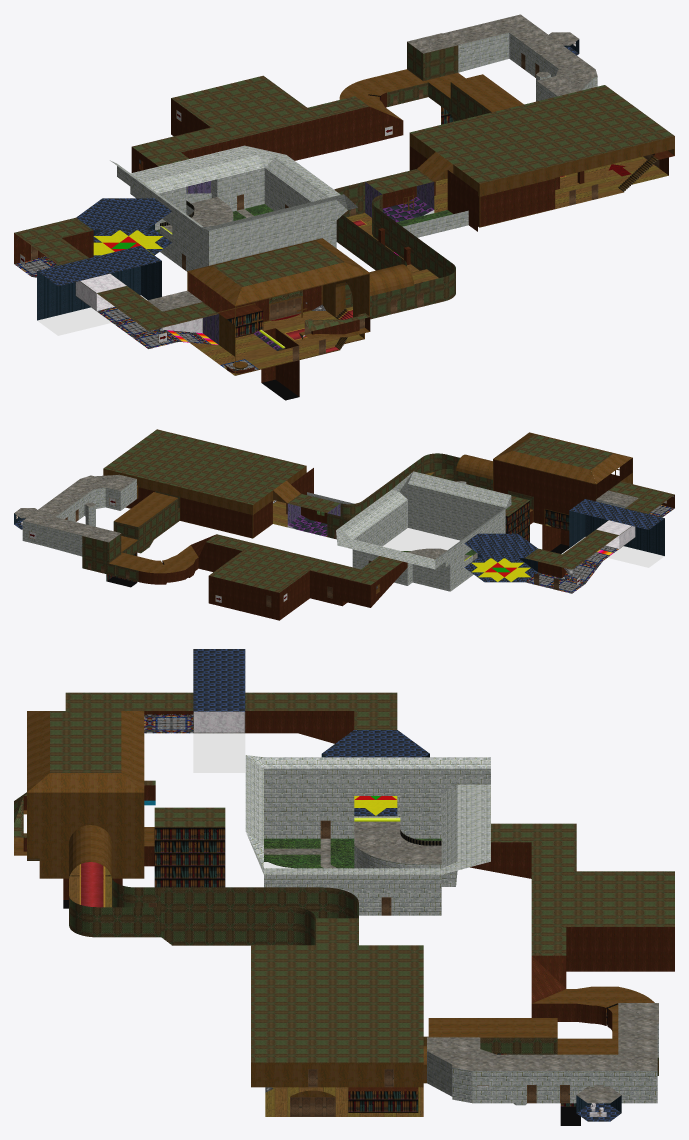
3 views of the same model, one above another, from view 1: azimuth 30°, elevation 25°; view 2: azimuth 150°, elevation 25°; view 3: azimuth 270°, elevation 25° (orthographic). The views are drawn at different scales.
Parts seen in each view (by area): view 1: fcourse-SKP--wall_for_rooms, fcourse-SKP--stone_wall, fcourse-SKP--wooden_wall, fcourse-SKP--wood, fcourse-SKP--wooden_floor, fcourse-SKP--dirt_road, fcourse-SKP--secret_room_floor, fcourse-SKP--blue_wall, fcourse-SKP--glass-road, fcourse-SKP--Trlizia, fcourse-SKP--ghost-cube, fcourse-SKP--transparentwall (+6 smaller); view 2: fcourse-SKP--wall_for_rooms, fcourse-SKP--wooden_wall, fcourse-SKP--stone_wall, fcourse-SKP--wood, fcourse-SKP--dirt_road, fcourse-SKP--secret_room_floor, fcourse-SKP--blue_wall, fcourse-SKP--ef_sea, fcourse-SKP--glass-road, fcourse-SKP--books, fcourse-SKP--star-yellow, fcourse-SKP--ghost-cube (+4 smaller); view 3: fcourse-SKP--wall_for_rooms, fcourse-SKP--stone_wall, fcourse-SKP--wood, fcourse-SKP--wooden_wall, fcourse-SKP--dirt_road, fcourse-SKP--secret_room_floor, fcourse-SKP--books, fcourse-SKP--wooden_floor, fcourse-SKP--ef_sea, fcourse-SKP--grass, fcourse-SKP--Trlizia, fcourse-SKP--ghost-cube (+2 smaller).
Part boxes in pixels (left/top/right/bottom): fcourse-SKP--wall_for_rooms: left=14, top=42, right=674, bottom=331; fcourse-SKP--stone_wall: left=110, top=32, right=597, bottom=271; fcourse-SKP--wooden_wall: left=14, top=92, right=674, bottom=396; fcourse-SKP--wood: left=20, top=43, right=674, bottom=375; fcourse-SKP--wooden_floor: left=190, top=156, right=668, bottom=375; fcourse-SKP--dirt_road: left=75, top=14, right=597, bottom=311; fcourse-SKP--secret_room_floor: left=37, top=47, right=578, bottom=286; fcourse-SKP--blue_wall: left=37, top=39, right=579, bottom=320; fcourse-SKP--glass-road: left=14, top=256, right=258, bottom=369; fcourse-SKP--Trlizia: left=31, top=53, right=659, bottom=361; fcourse-SKP--ghost-cube: left=76, top=273, right=202, bottom=333; fcourse-SKP--transparentwall: left=186, top=180, right=434, bottom=344; fcourse-SKP--wall_for_rooms: left=82, top=429, right=674, bottom=592; fcourse-SKP--wooden_wall: left=126, top=458, right=674, bottom=620; fcourse-SKP--stone_wall: left=22, top=471, right=626, bottom=591; fcourse-SKP--wood: left=16, top=432, right=666, bottom=602; fcourse-SKP--dirt_road: left=14, top=474, right=638, bottom=560; fcourse-SKP--secret_room_floor: left=14, top=499, right=664, bottom=582; fcourse-SKP--blue_wall: left=14, top=510, right=664, bottom=571; fcourse-SKP--ef_sea: left=382, top=528, right=664, bottom=567; fcourse-SKP--glass-road: left=525, top=505, right=674, bottom=593; fcourse-SKP--books: left=106, top=501, right=569, bottom=582; fcourse-SKP--star-yellow: left=471, top=558, right=530, bottom=581; fcourse-SKP--ghost-cube: left=21, top=520, right=635, bottom=548; fcourse-SKP--wall_for_rooms: left=14, top=692, right=674, bottom=1075; fcourse-SKP--stone_wall: left=245, top=755, right=658, bottom=1105; fcourse-SKP--wood: left=14, top=711, right=654, bottom=1116; fcourse-SKP--wooden_wall: left=23, top=711, right=674, bottom=1091; fcourse-SKP--dirt_road: left=193, top=711, right=658, bottom=1103; fcourse-SKP--secret_room_floor: left=193, top=649, right=621, bottom=1121; fcourse-SKP--books: left=154, top=827, right=617, bottom=1112; fcourse-SKP--wooden_floor: left=69, top=865, right=423, bottom=1116; fcourse-SKP--ef_sea: left=193, top=733, right=293, bottom=868; fcourse-SKP--grass: left=264, top=838, right=441, bottom=868; fcourse-SKP--Trlizia: left=148, top=820, right=569, bottom=1116; fcourse-SKP--ghost-cube: left=194, top=711, right=606, bottom=1116.
Bounding box in the file's own units: 109840 × 19918 × 74835.
35 materials, 33 textured.
